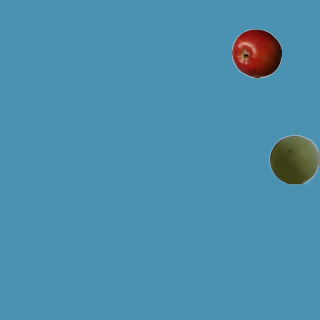Apple Braeburn: (231, 28, 281, 78)
Grape White 4: (268, 134, 318, 184)
